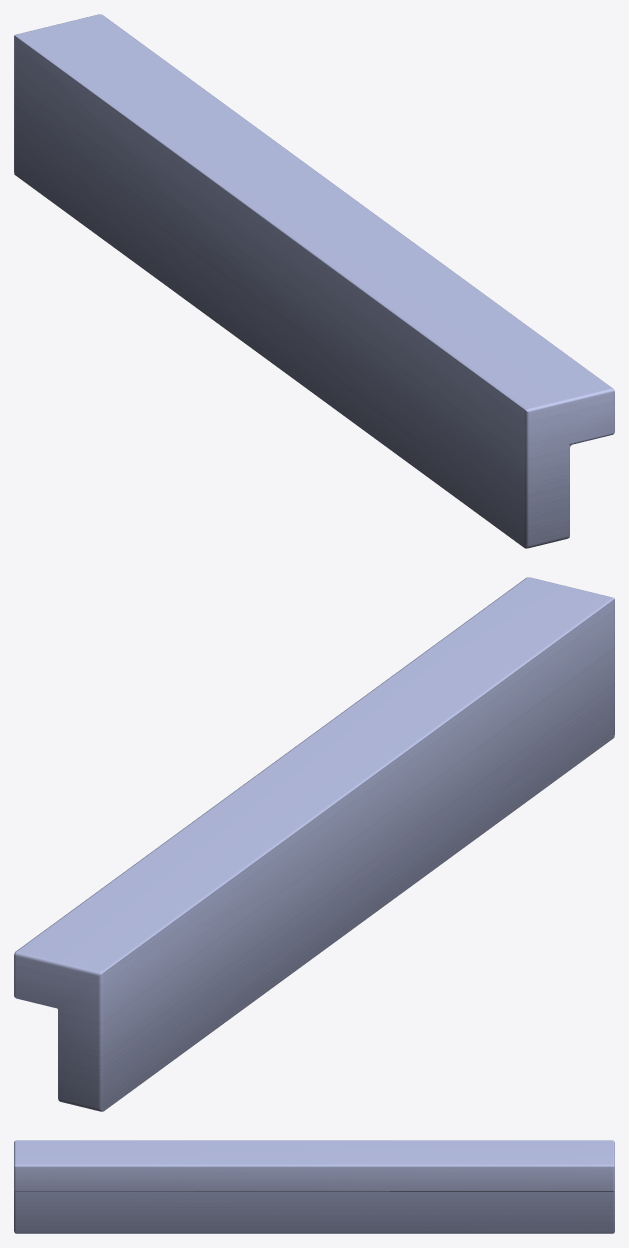
File: border.glb
3 views of the same model, one above another, from view 1: azimuth 30°, elevation 25°; view 2: azimuth 150°, elevation 25°; view 3: azimuth 270°, elevation 25° (orthographic). The views are drawn at different scales.
Parts seen in each view (by area): view 1: border; view 2: border; view 3: border.
Part boxes in pixels (bbox=[...]): border: bbox=[14, 14, 614, 548]; border: bbox=[14, 577, 614, 1111]; border: bbox=[14, 1140, 614, 1233].
Bounding box in the file's own units: 0.2 × 0.3 × 2.
1 material, 1 textured.
